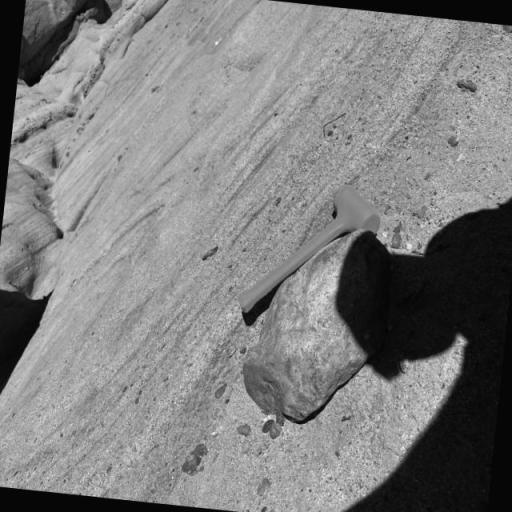mallet: (236, 174, 384, 326)
